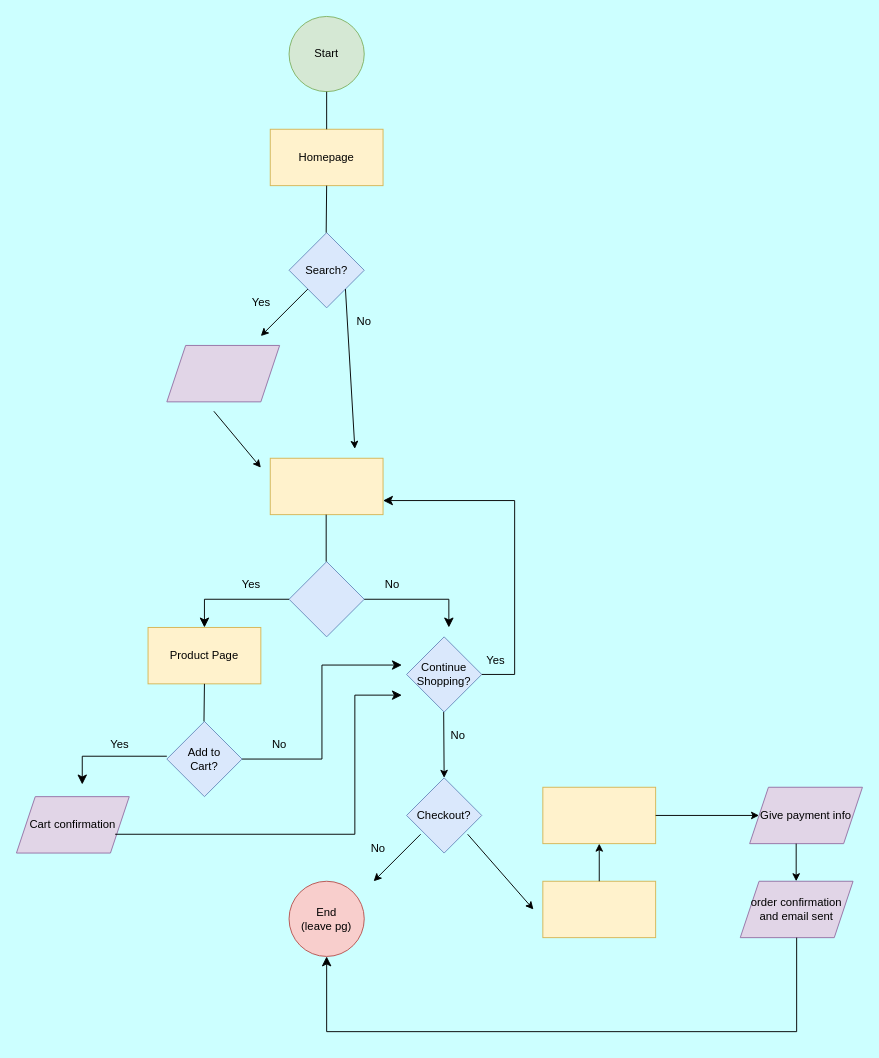
Some shapes in this 879 by 1058 pixel diagram are drawn without their labels. The centre of each missing label's shape, as x and y in pixels:
"Browse Products" belongs at pixel 326 486.
"Input product name for search" belongs at pixel 223 373.
"View Cart Screen" belongs at pixel 599 909.
"View payment" belongs at pixel 599 815.
"View Product" belongs at pixel 326 599.
